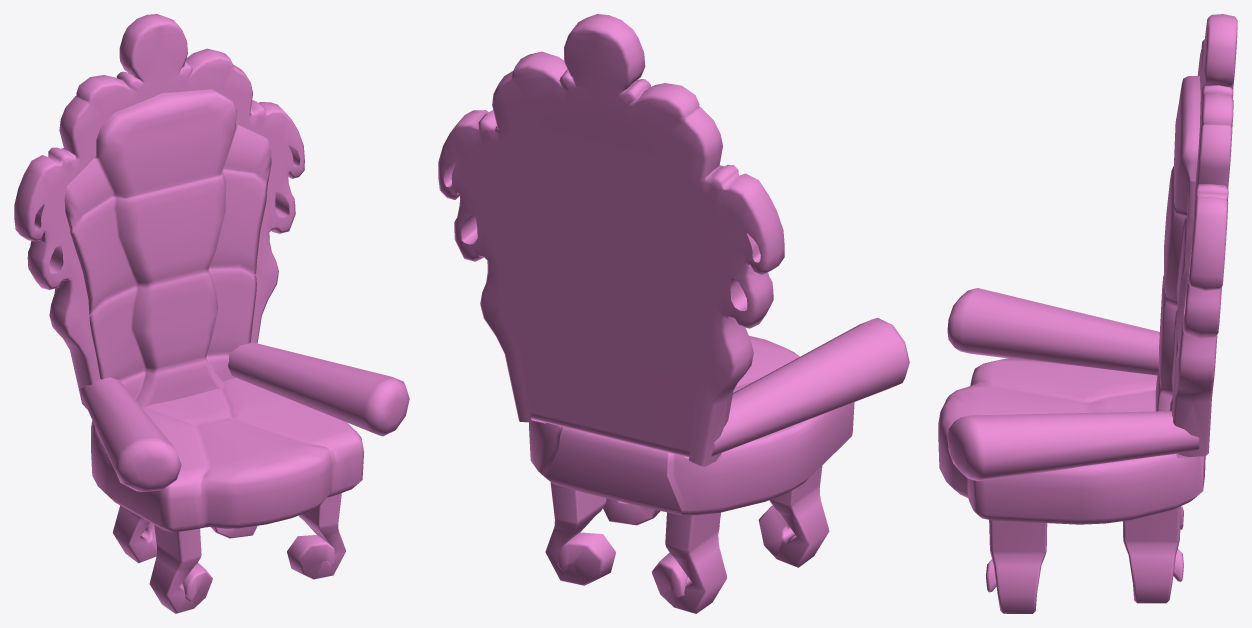
The model's file is ENV_HAU_CHAIR_MODEL.fbx.
3 renders of one model, left to right at view 1: azimuth 30°, elevation 25°; view 2: azimuth 150°, elevation 25°; view 3: azimuth 270°, elevation 25°, orthographic. The views are drawn at different scales.
Parts seen in each view (by area): view 1: ENV_HAU_CHAIR_MODEL; view 2: ENV_HAU_CHAIR_MODEL; view 3: ENV_HAU_CHAIR_MODEL.
Part boxes in pixels (left/top/right/bottom): ENV_HAU_CHAIR_MODEL: left=14, top=14, right=409, bottom=613; ENV_HAU_CHAIR_MODEL: left=438, top=14, right=909, bottom=613; ENV_HAU_CHAIR_MODEL: left=938, top=14, right=1237, bottom=613.
Size of the model in its own units: 80.89 by 133 by 65.21.
